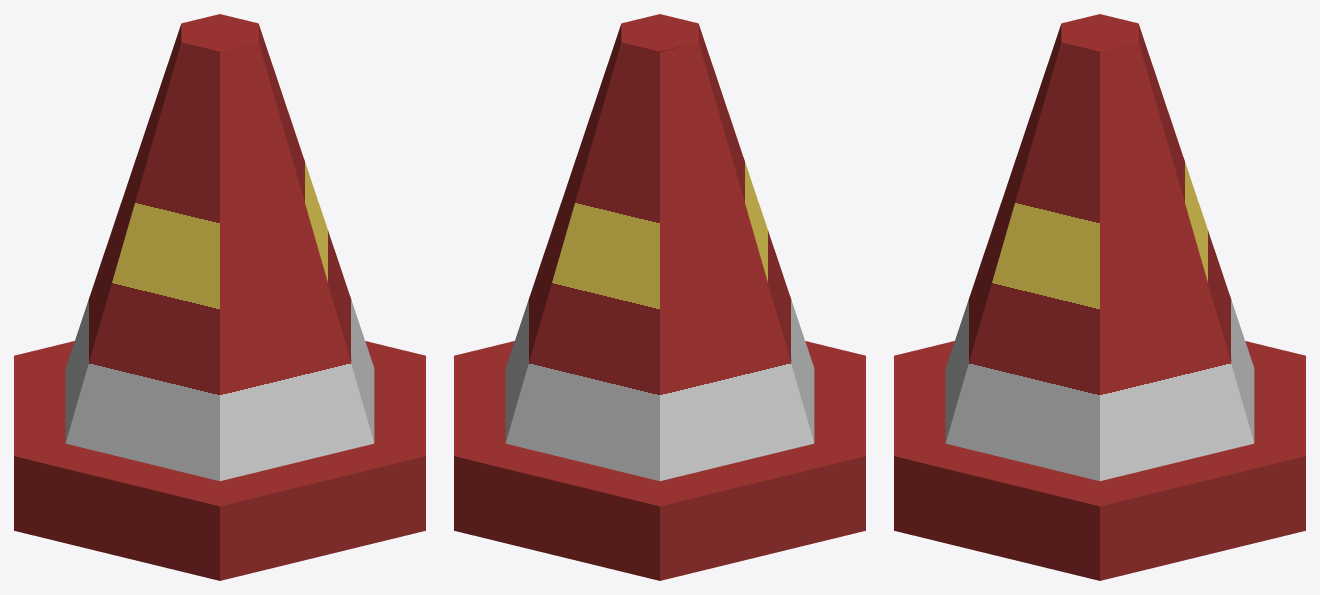
The model's file is Prop_Cone.gltf.
3 renders of one model, left to right at view 1: azimuth 30°, elevation 25°; view 2: azimuth 150°, elevation 25°; view 3: azimuth 270°, elevation 25°, orthographic.
Parts seen in each view (by area): view 1: cylinder; view 2: cylinder; view 3: cylinder.
Part boxes in pixels (x1,y1,x2,y2): cylinder: [14, 14, 425, 580]; cylinder: [454, 14, 865, 580]; cylinder: [894, 14, 1305, 580].
Size of the model in its own units: 0.3608 by 0.375 by 0.3125.
1 material, 1 textured.
